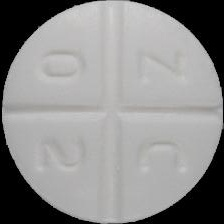52959-534: (0, 0, 224, 224)
